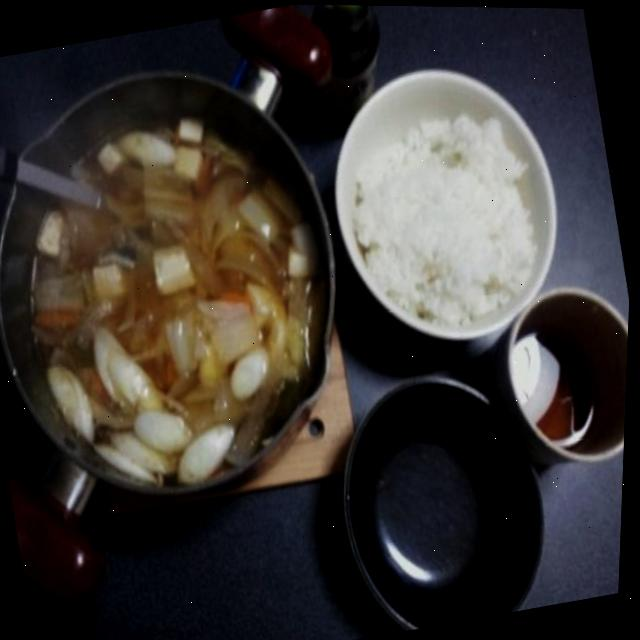米饭主食: (304, 36, 585, 362)
